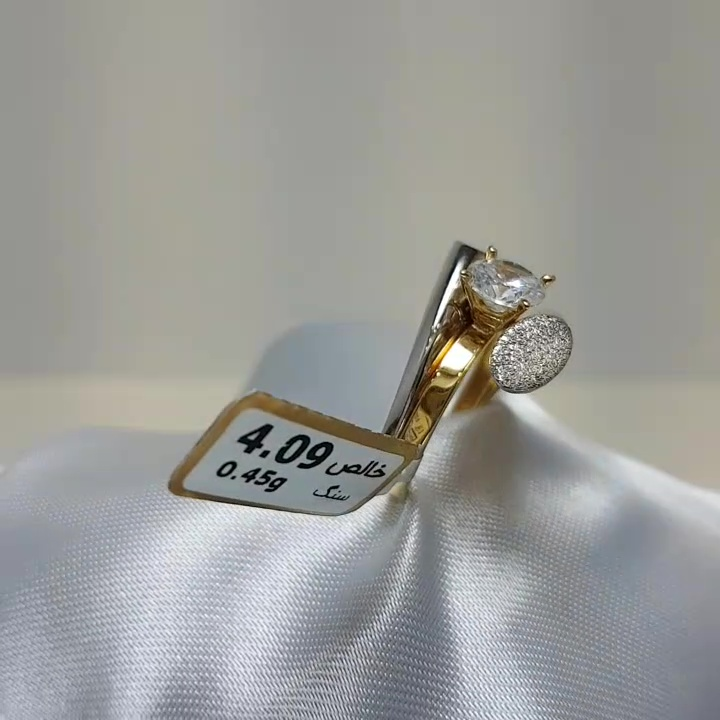Ring 7: (368, 242, 598, 516)
